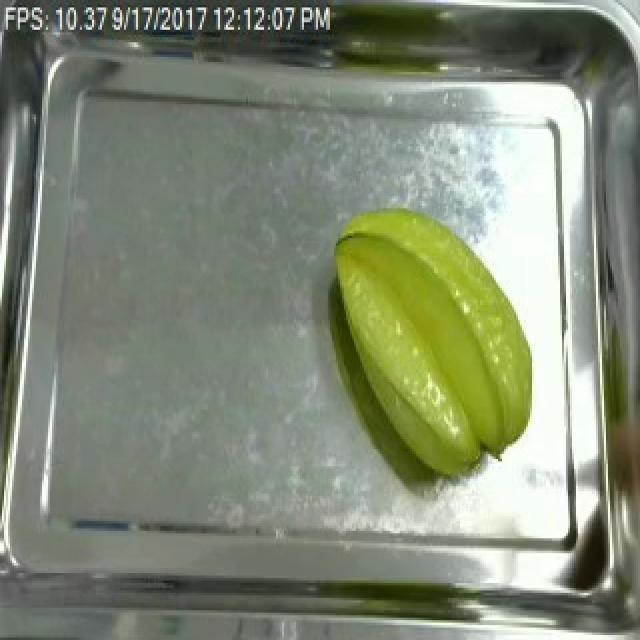fruit: (324, 201, 542, 496)
